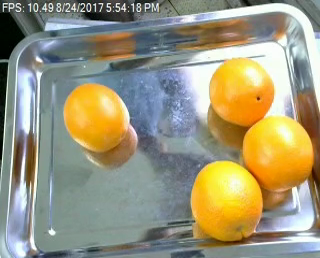Orange: (189, 160, 262, 242), (242, 113, 314, 191), (63, 83, 131, 151), (209, 57, 275, 126)
